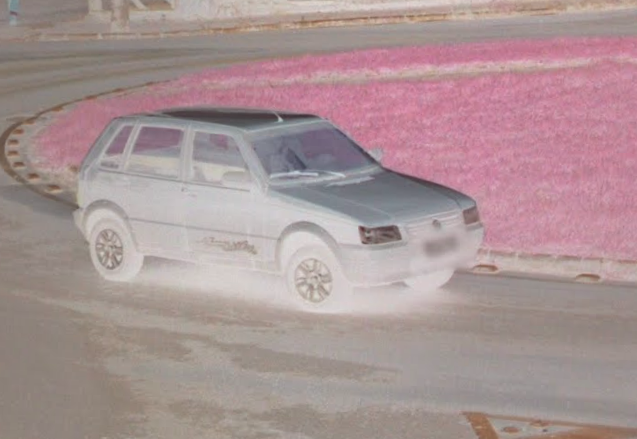car: (69, 89, 493, 325)
